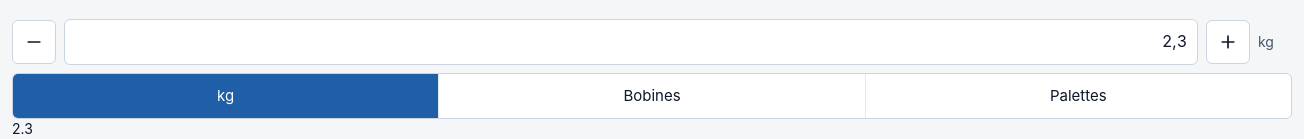
Quantite › en mode tactile, le compteur et les segments de l’atelier
(page scrolled)
What coordinates should you click on to do the following:
click the button named "Plus 0,1"
I would click on:
 (1228, 42)
Its box is [1206, 20, 1250, 64].
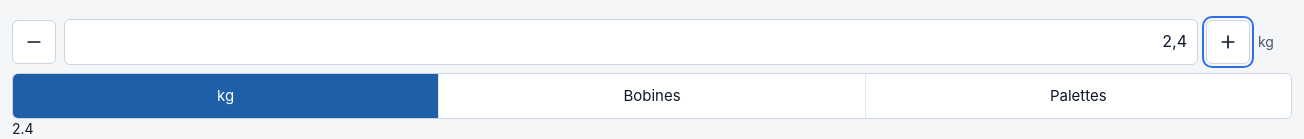
Check: the radio button labelled "Bobines" is shown, box [439, 74, 866, 118]
Check: the text "2.4" is shown, box [12, 120, 34, 137]
